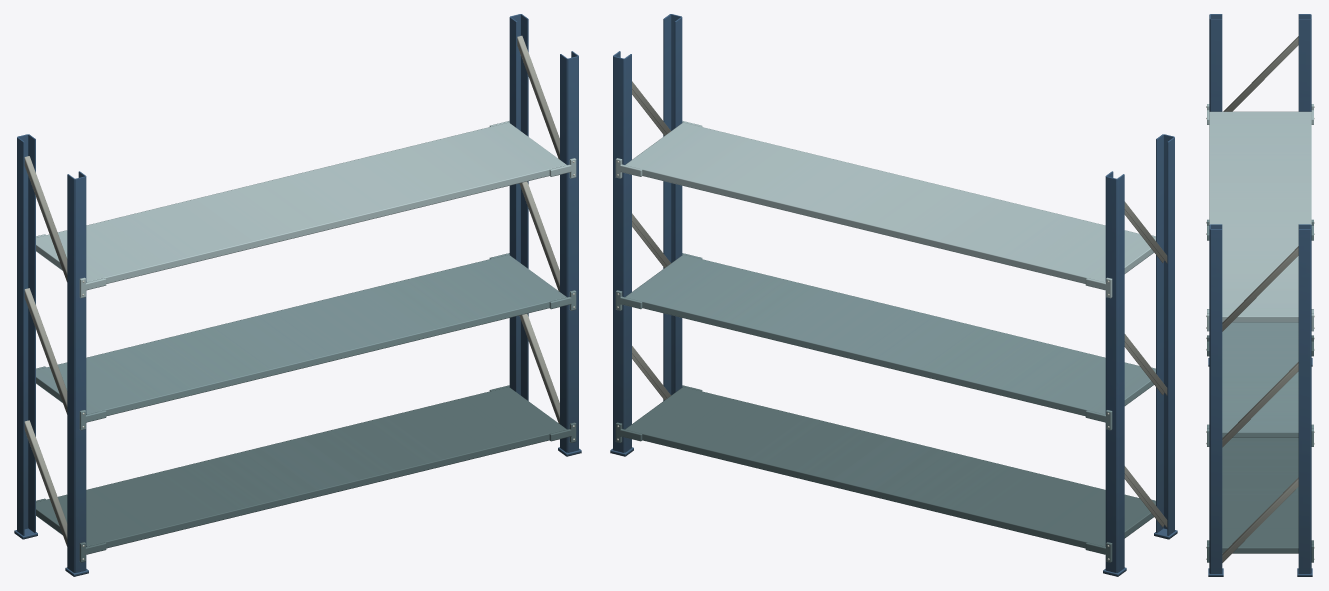
The model's file is SM_storage_rack_4x3_empty.fbx.
3 renders of one model, left to right at view 1: azimuth 30°, elevation 25°; view 2: azimuth 150°, elevation 25°; view 3: azimuth 270°, elevation 25°, orthographic. The views are drawn at different scales.
Visible parts, largest first — view 1: Plane.004, SM_storage_rack_4x3_empty, SM_storage_rack_4x3_full.003, Plane.005; view 2: Plane.004, SM_storage_rack_4x3_empty, SM_storage_rack_4x3_full.003, Plane.005; view 3: Plane.004, SM_storage_rack_4x3_empty, SM_storage_rack_4x3_full.003, Plane.005, Plane.006.
Part boxes in pixels (<box>): Plane.004: <box>36,122,566,548</box>; SM_storage_rack_4x3_empty: <box>17,14,578,572</box>; SM_storage_rack_4x3_full.003: <box>24,35,559,546</box>; Plane.005: <box>36,121,576,562</box>; Plane.004: <box>625,122,1155,548</box>; SM_storage_rack_4x3_empty: <box>613,14,1174,572</box>; SM_storage_rack_4x3_full.003: <box>632,81,1167,527</box>; Plane.005: <box>615,121,1155,562</box>; Plane.004: <box>1209,111,1311,553</box>; SM_storage_rack_4x3_empty: <box>1209,14,1311,573</box>; SM_storage_rack_4x3_full.003: <box>1222,36,1298,562</box>; Plane.005: <box>1207,104,1313,562</box>; Plane.006: <box>1208,358,1312,576</box>.
Size of the model in its own units: 402 by 300 by 85.01.
